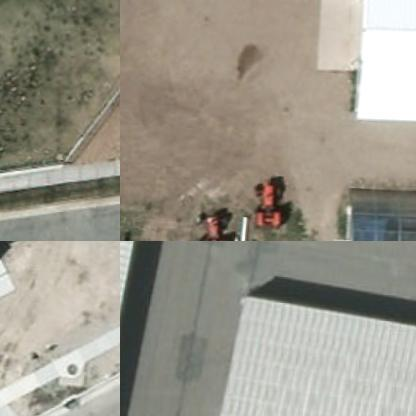tractor: (255, 174, 292, 232), (197, 205, 242, 240)
